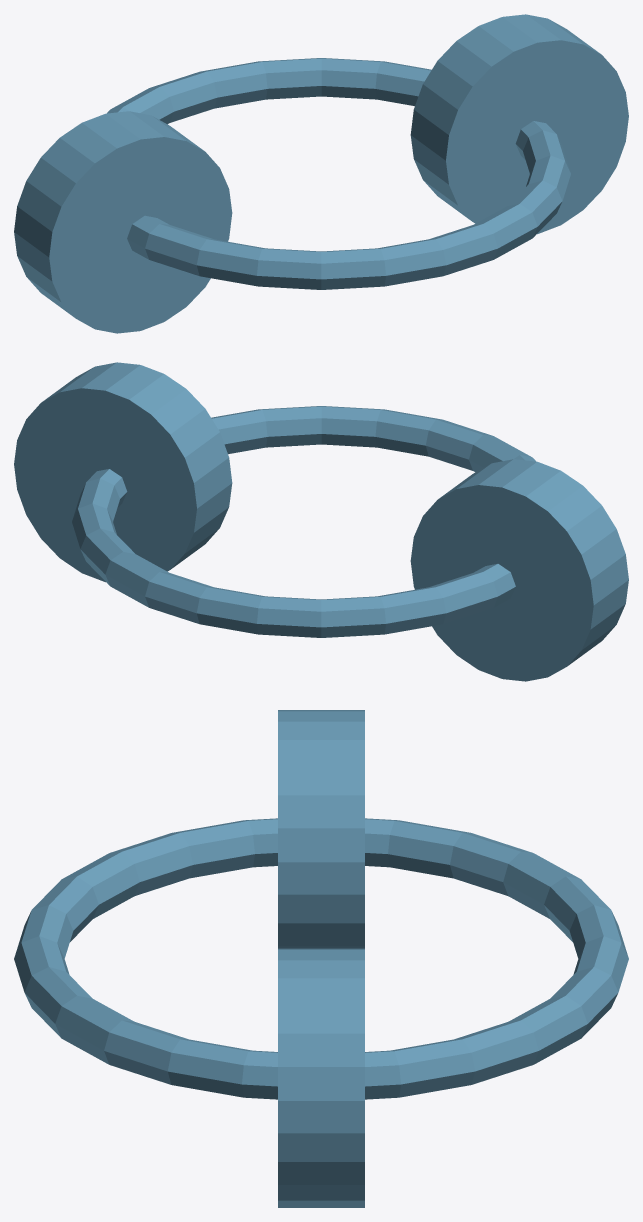
Rendered from hearing_lod1.glb.
The picture shows the model from 3 angles, top to bottom: view 1: azimuth 30°, elevation 25°; view 2: azimuth 150°, elevation 25°; view 3: azimuth 270°, elevation 25°; orthographic projection. The views are drawn at different scales.
Parts seen in each view (by area): view 1: part_0, part_2, part_1; view 2: part_0, part_2, part_1; view 3: part_2, part_1, part_0.
Part boxes in pixels (box(x1,y1,x2,y2)): part_0: box(14, 111, 232, 333); part_2: box(107, 58, 570, 289); part_1: box(410, 14, 628, 234); part_0: box(410, 459, 628, 681); part_2: box(72, 406, 535, 637); part_1: box(14, 362, 232, 582); part_2: box(14, 818, 628, 1099); part_1: box(278, 948, 364, 1207); part_0: box(278, 710, 364, 948).
Bounding box in the file's own units: 1.14 × 0.36 × 0.85.
